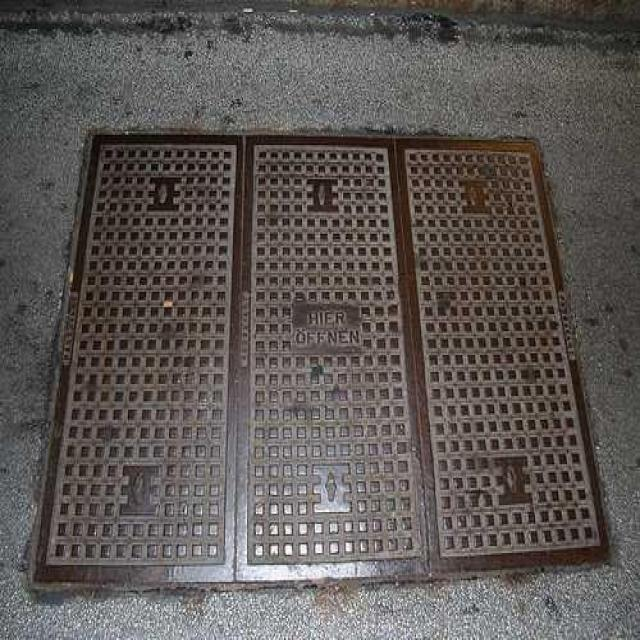manhole: (33, 135, 609, 587)
